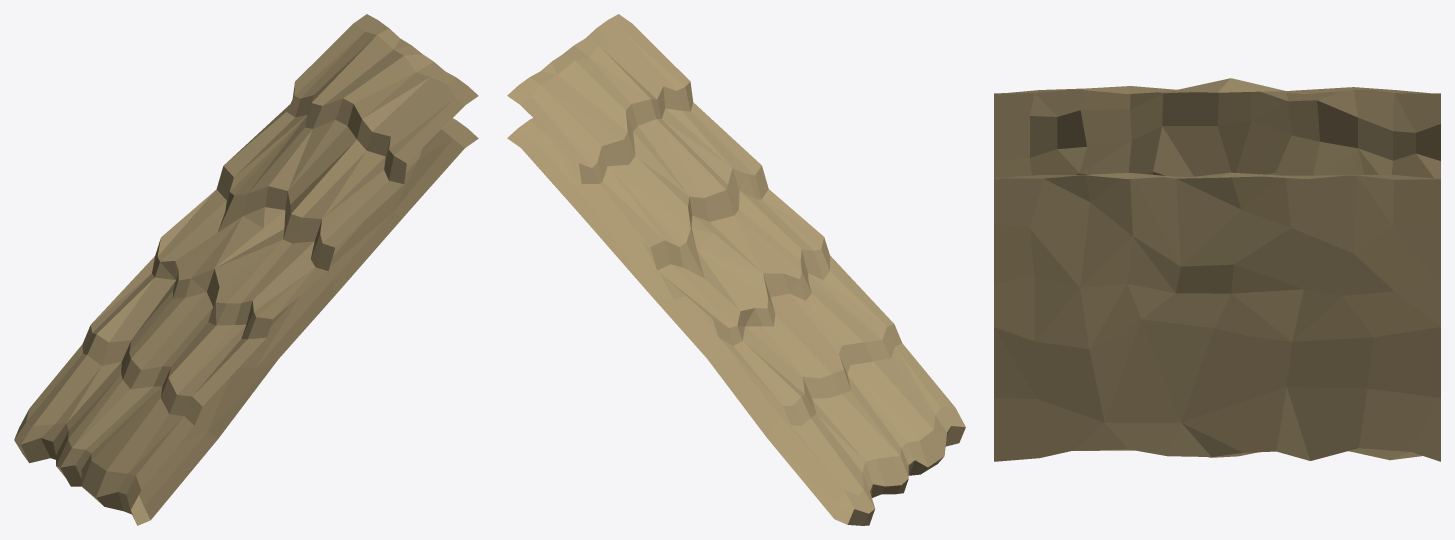
File: rpgpp_ag_roof_02a_9x4x3_half.fbx
3 renders of one model, left to right at view 1: azimuth 30°, elevation 25°; view 2: azimuth 150°, elevation 25°; view 3: azimuth 270°, elevation 25°, orthographic. The views are drawn at different scales.
Parts seen in each view (by area): view 1: rpgpp_ag_roof_02a_9x4x3_half; view 2: rpgpp_ag_roof_02a_9x4x3_half; view 3: rpgpp_ag_roof_02a_9x4x3_half.
Part boxes in pixels (left/top/right/bottom): rpgpp_ag_roof_02a_9x4x3_half: left=14, top=14, right=478, bottom=525; rpgpp_ag_roof_02a_9x4x3_half: left=507, top=14, right=965, bottom=525; rpgpp_ag_roof_02a_9x4x3_half: left=994, top=78, right=1440, bottom=461.
Size of the model in its own units: 5.54 by 5.27 by 3.
